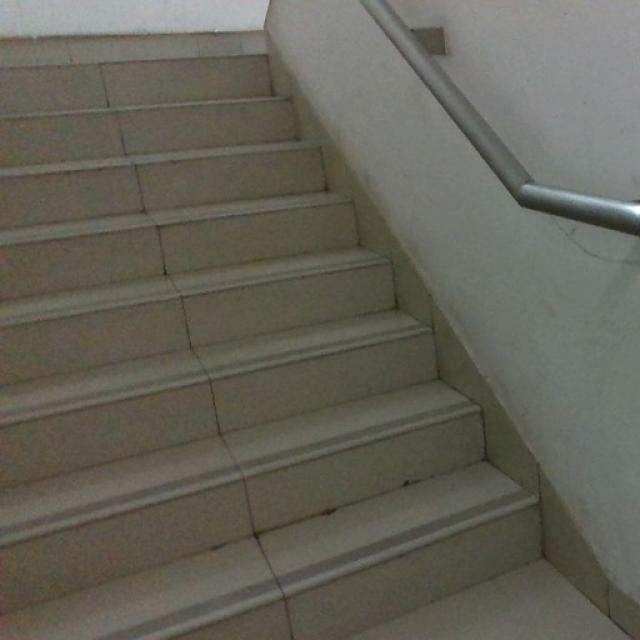stair: (0, 49, 552, 605)
